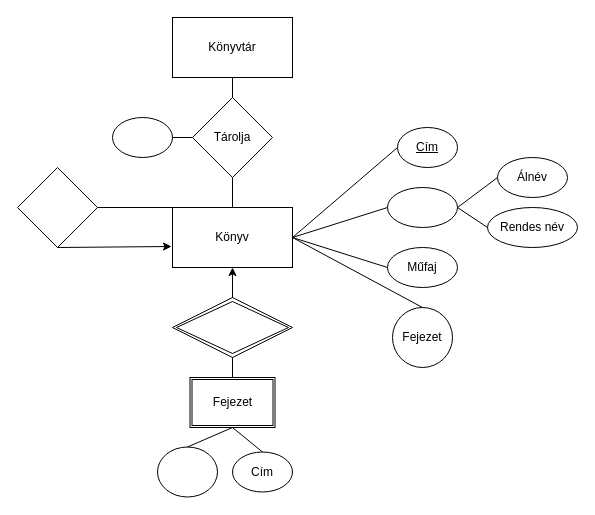
Image size: 595x515. Some labels were removed from this diagram. Here are the shapes that lost their labels. From the top down, the centre of each, then its label:
point 142,137: mióta
point 57,207: Forrása
point 422,207: Író
point 232,327: Része
point 187,471: Szám
